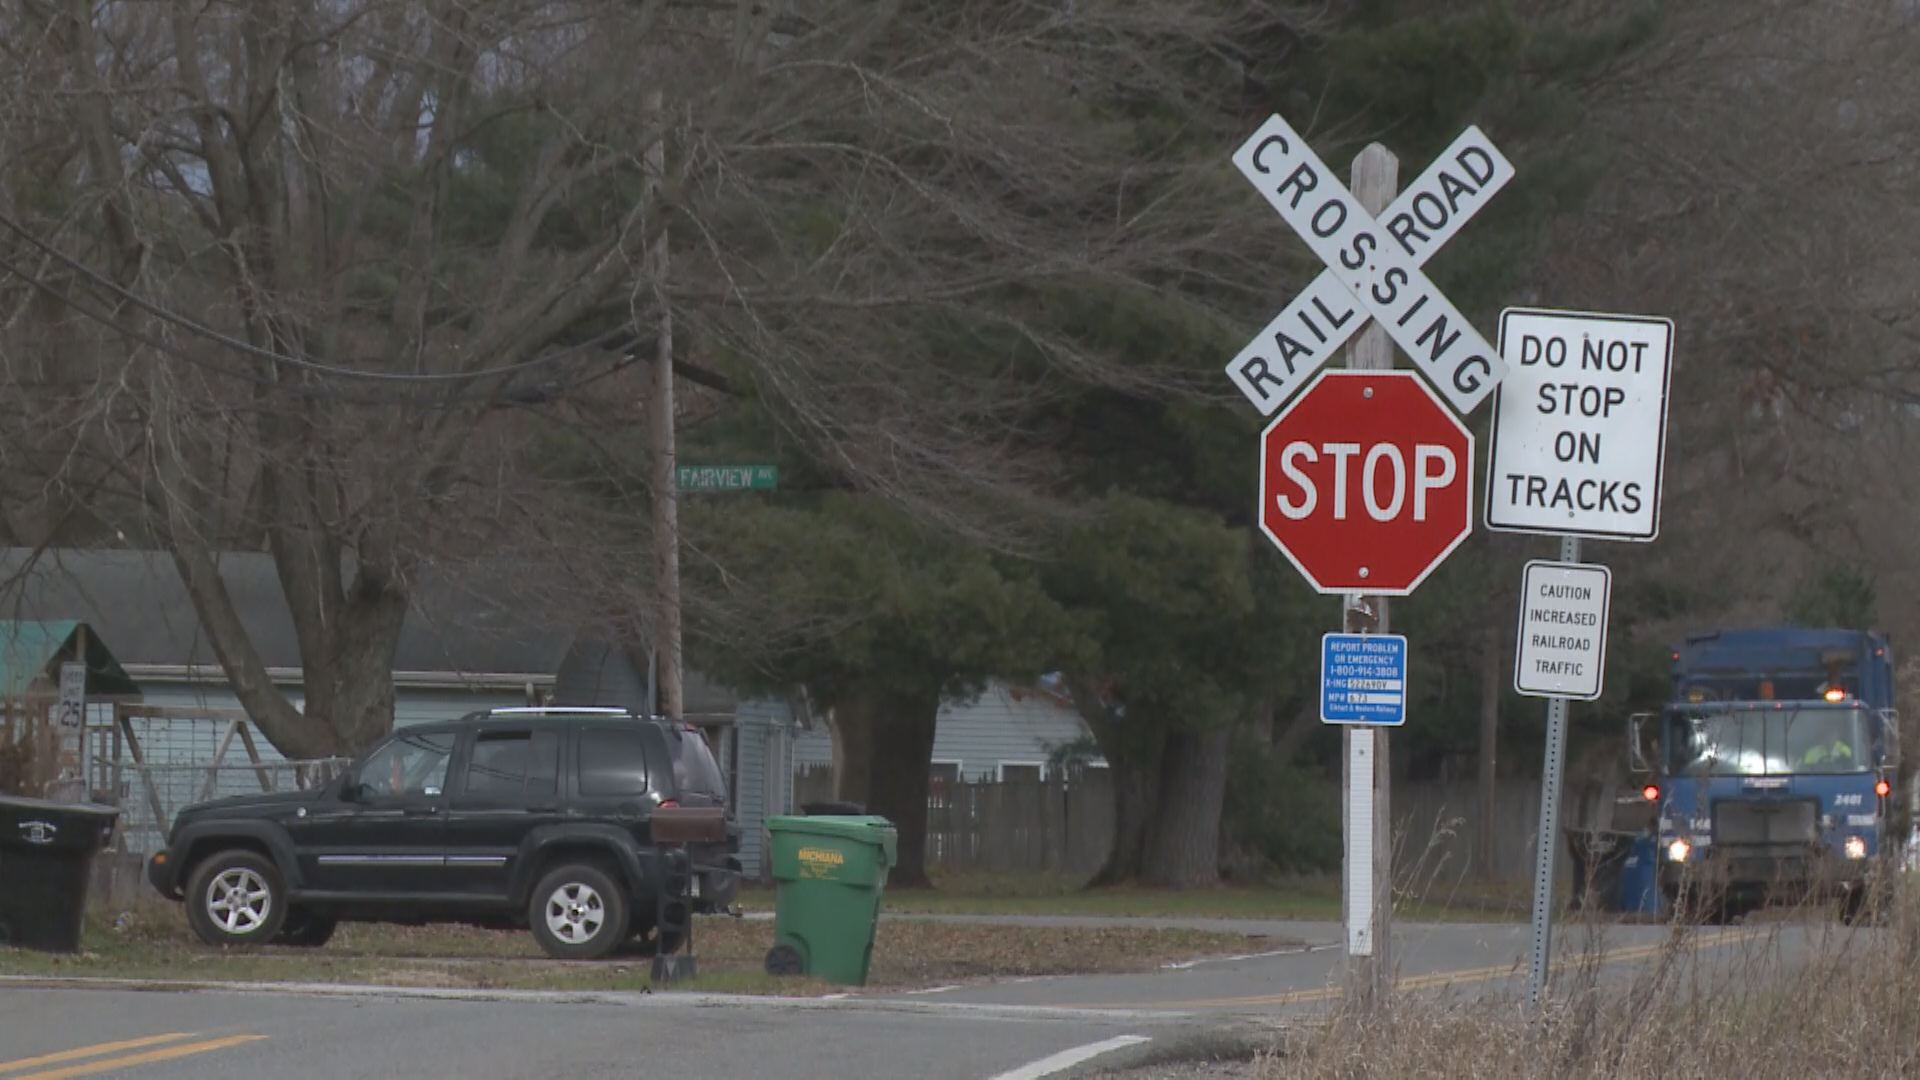stop_sign: (1258, 369, 1476, 593)
